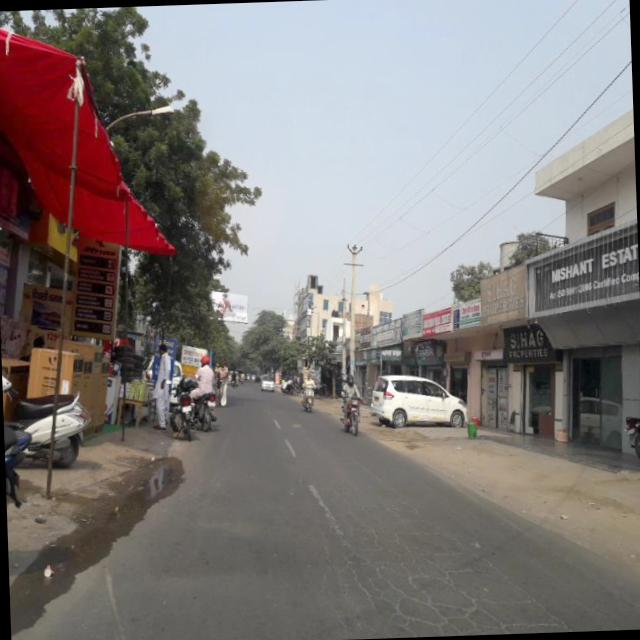crack: (322, 521, 572, 639)
